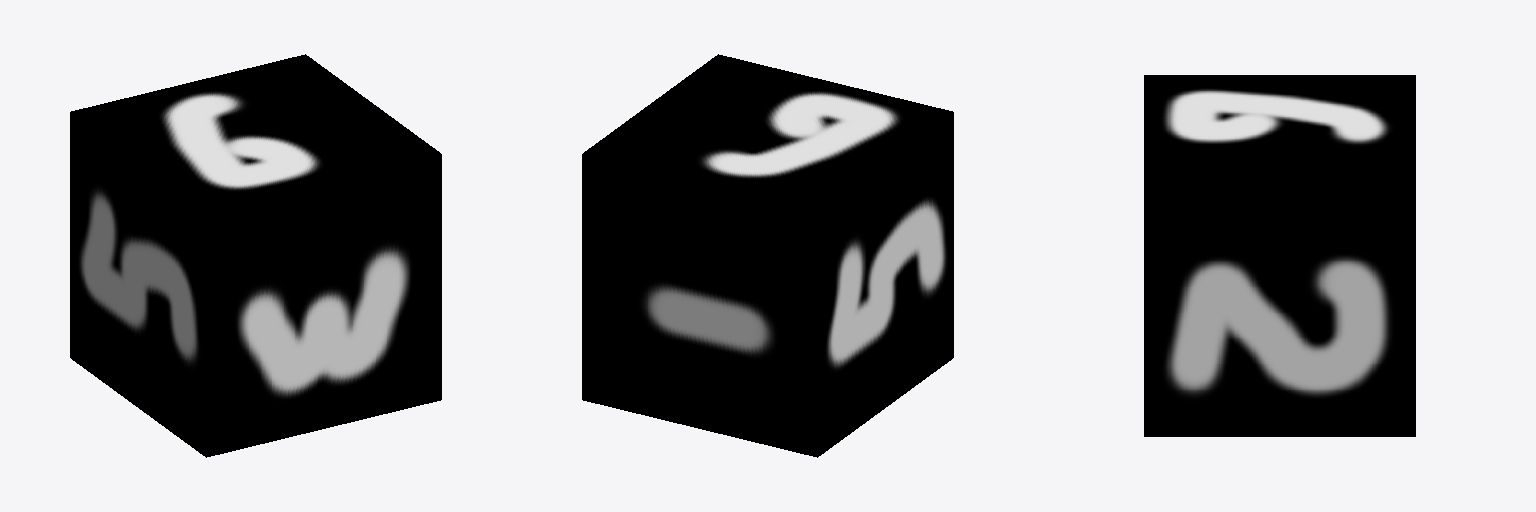
3 views of the same model, side by side, from view 1: azimuth 30°, elevation 25°; view 2: azimuth 150°, elevation 25°; view 3: azimuth 270°, elevation 25° (orthographic).
Visible parts, largest first — view 1: Cube; view 2: Cube; view 3: Cube.
Boxes of the visible parts, x1,y1,x2,y2 form: Cube: [70, 54, 441, 457]; Cube: [582, 54, 953, 457]; Cube: [1144, 75, 1415, 436].
Bounding box in the file's own units: 2 × 2 × 2.
Materials: 1 (1 with a texture image).